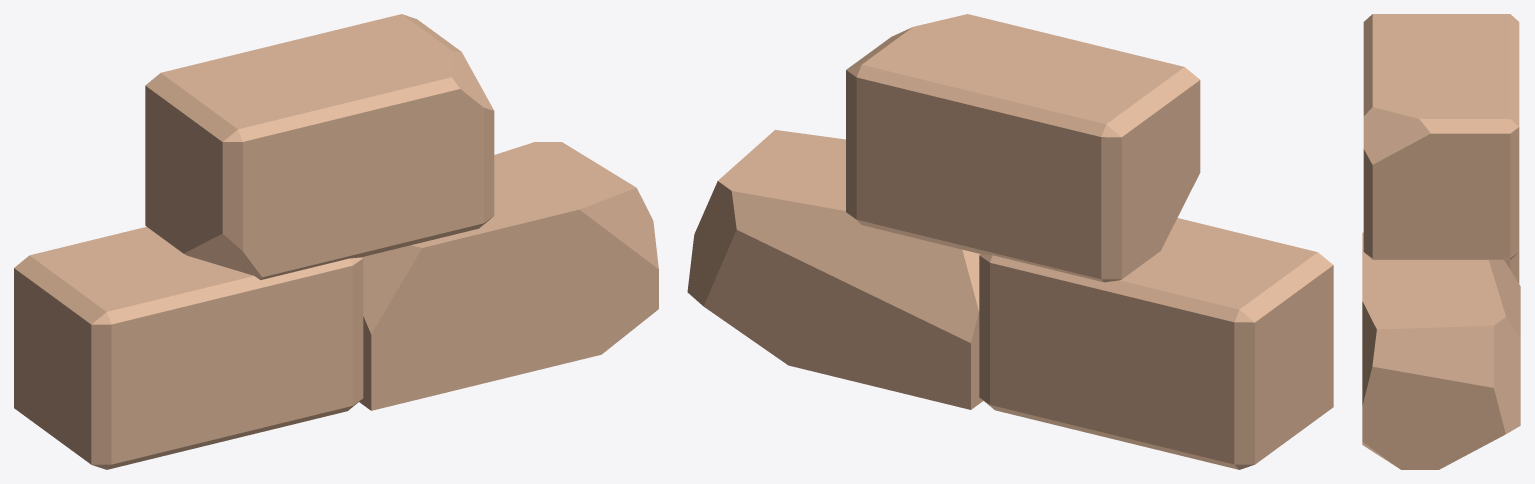
The model's file is 3brick.fbx.
3 renders of one model, left to right at view 1: azimuth 30°, elevation 25°; view 2: azimuth 150°, elevation 25°; view 3: azimuth 270°, elevation 25°, orthographic. The views are drawn at different scales.
Parts seen in each view (by area): view 1: 3brick; view 2: 3brick; view 3: 3brick.
Part boxes in pixels (x1,y1,x2,y2): 3brick: (14,14,658,469); 3brick: (687,14,1333,469); 3brick: (1362,14,1520,469).
Size of the model in its own units: 2.34 by 1.23 by 0.64.
